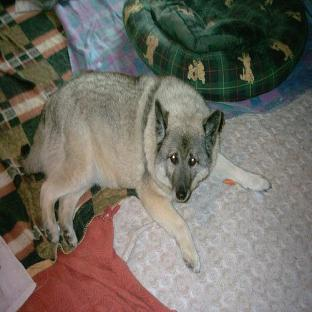Animal: (21, 71, 270, 271)
